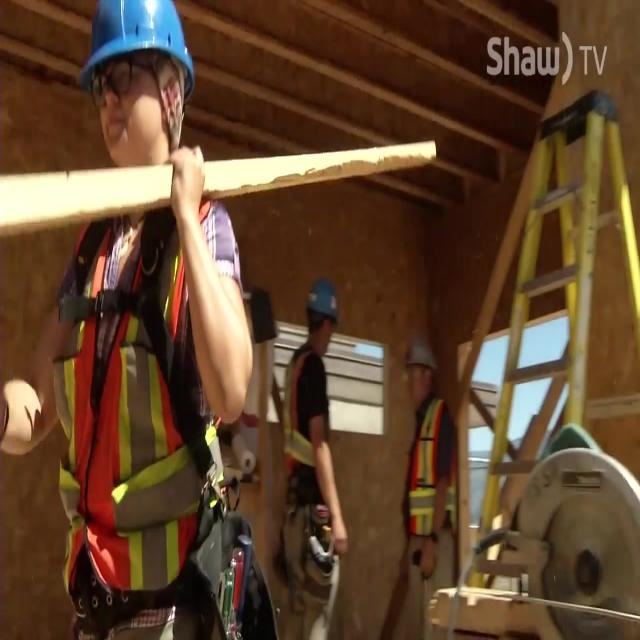Reflective-Jacket: (50, 188, 253, 614), (275, 336, 346, 535), (397, 394, 465, 550)
Safety-Helmet: (427, 423, 640, 640), (73, 2, 201, 106), (300, 268, 346, 332), (400, 329, 442, 381)
